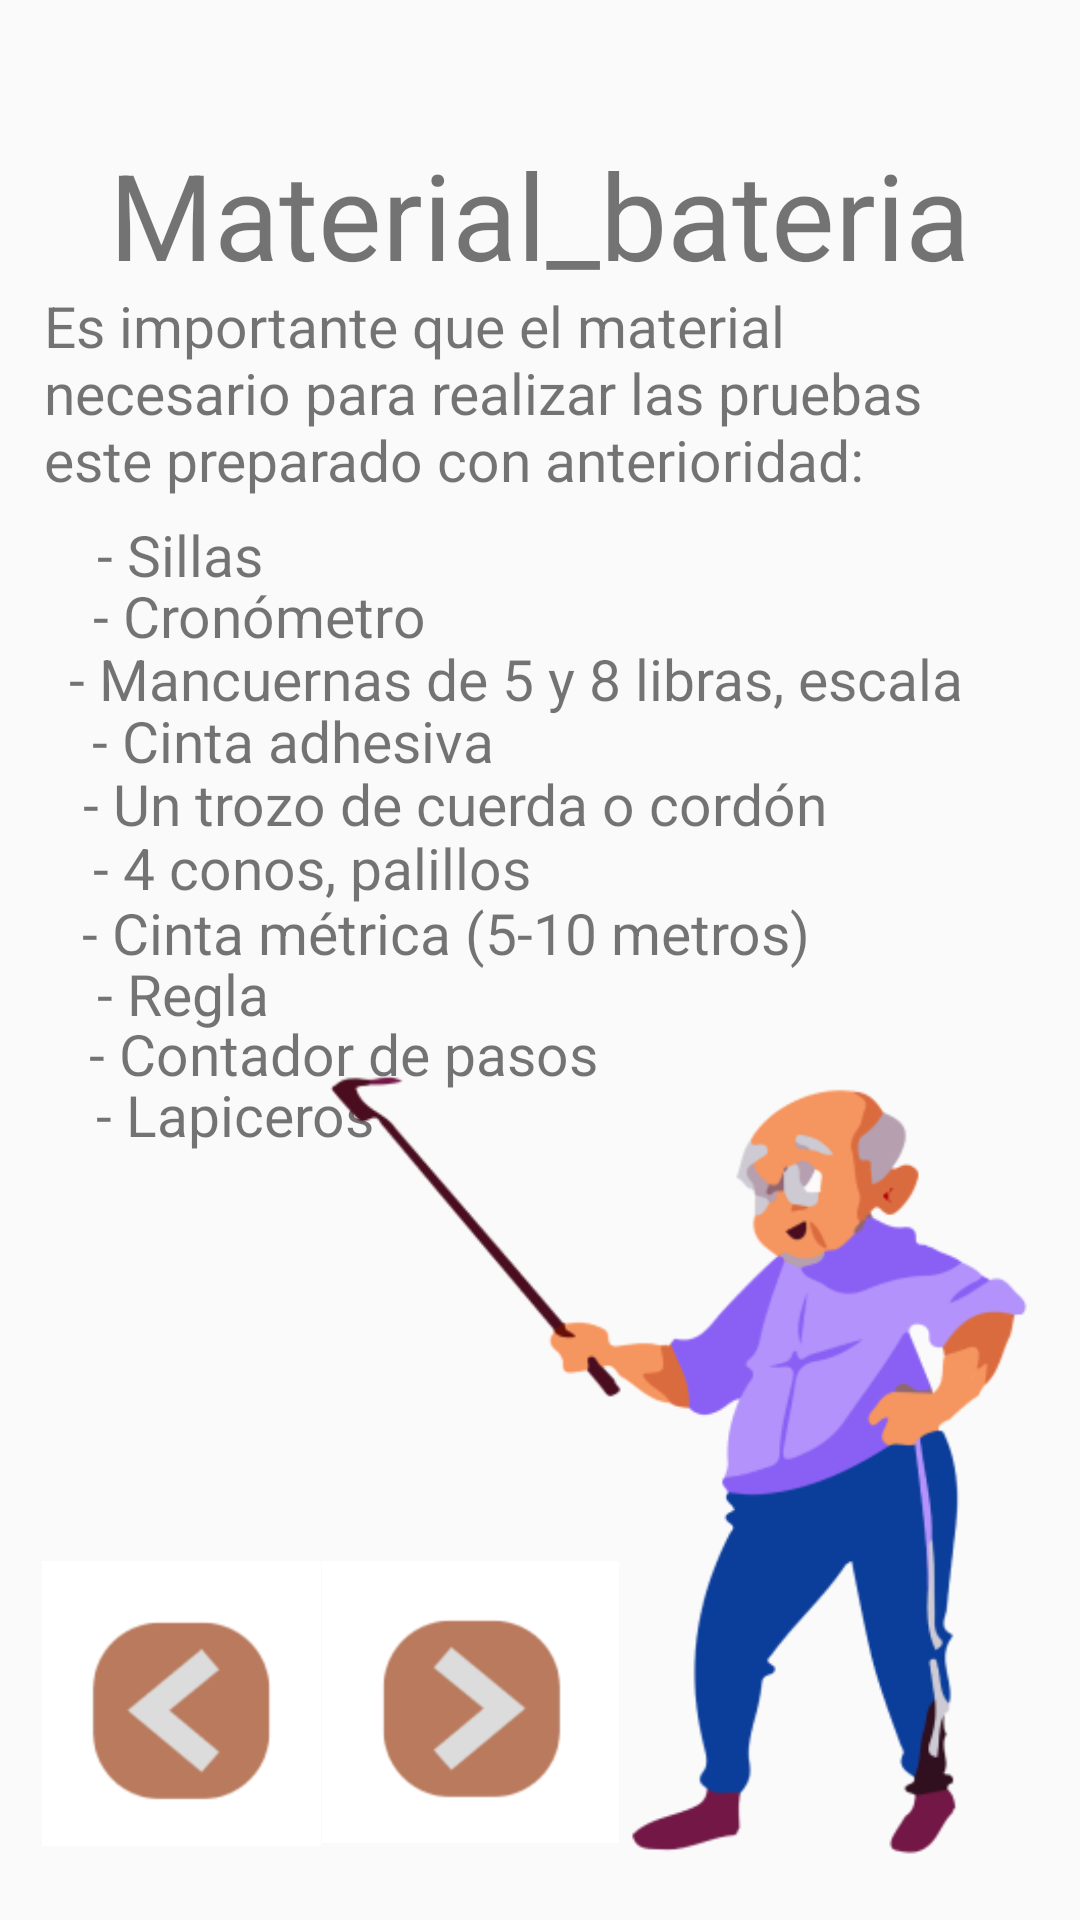

Icon bounding boxes for this 1080w x 1920h phone screenshot, format (x1, y1, x2, y2):
regresar: (92, 1622, 270, 1800)
seguir: (383, 1620, 561, 1798)
